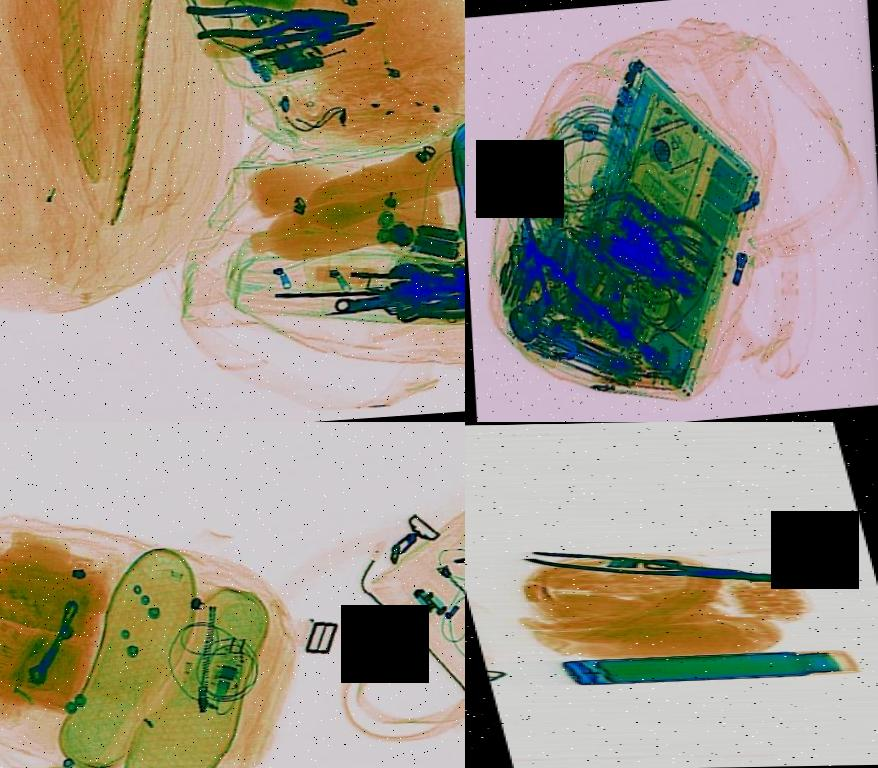Pliers: (518, 542, 794, 593), (614, 171, 728, 275), (186, 0, 351, 47)
Wrench: (383, 246, 465, 324)
